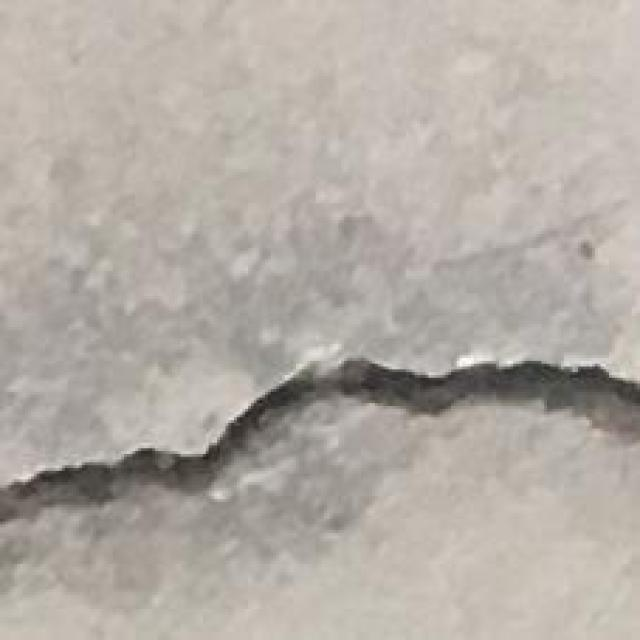Crack: (5, 349, 640, 541)
